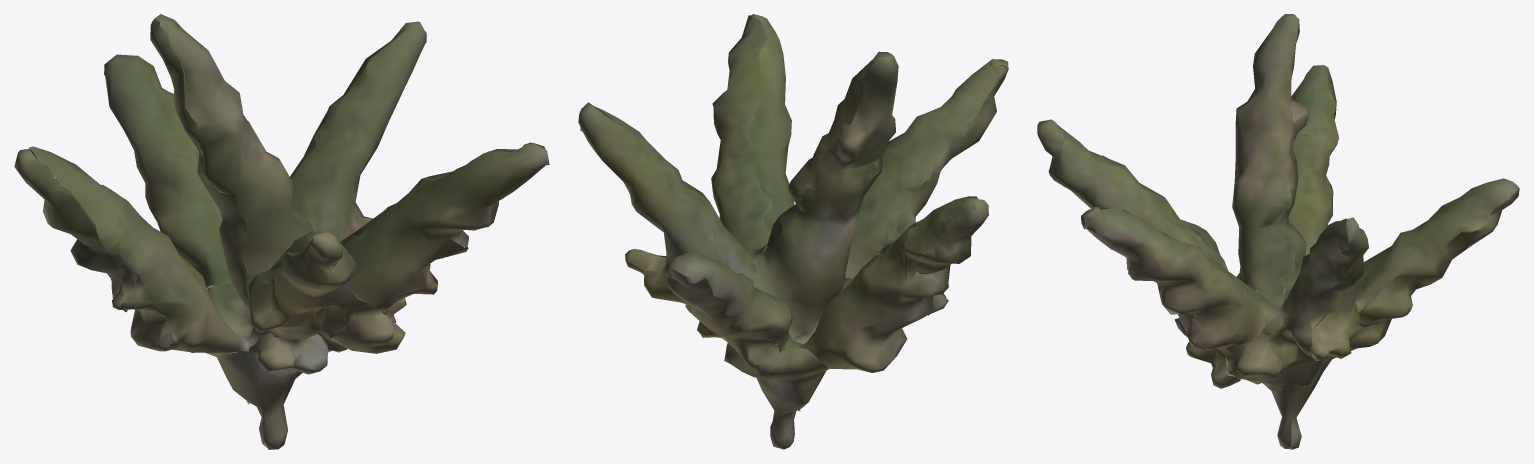
The model's file is ground_cover_01_lod1.glb.
3 renders of one model, left to right at view 1: azimuth 30°, elevation 25°; view 2: azimuth 150°, elevation 25°; view 3: azimuth 270°, elevation 25°, orthographic. The views are drawn at different scales.
Parts seen in each view (by area): view 1: candidate_012_lod1; view 2: candidate_012_lod1; view 3: candidate_012_lod1.
Part boxes in pixels (x1=…): candidate_012_lod1: x1=14, y1=14, x2=549, y2=449; candidate_012_lod1: x1=578, y1=14, x2=1008, y2=449; candidate_012_lod1: x1=1037, y1=14, x2=1519, y2=449.
Size of the model in its own units: 0.0965 by 0.0991 by 0.1113.
1 material, 1 textured.
